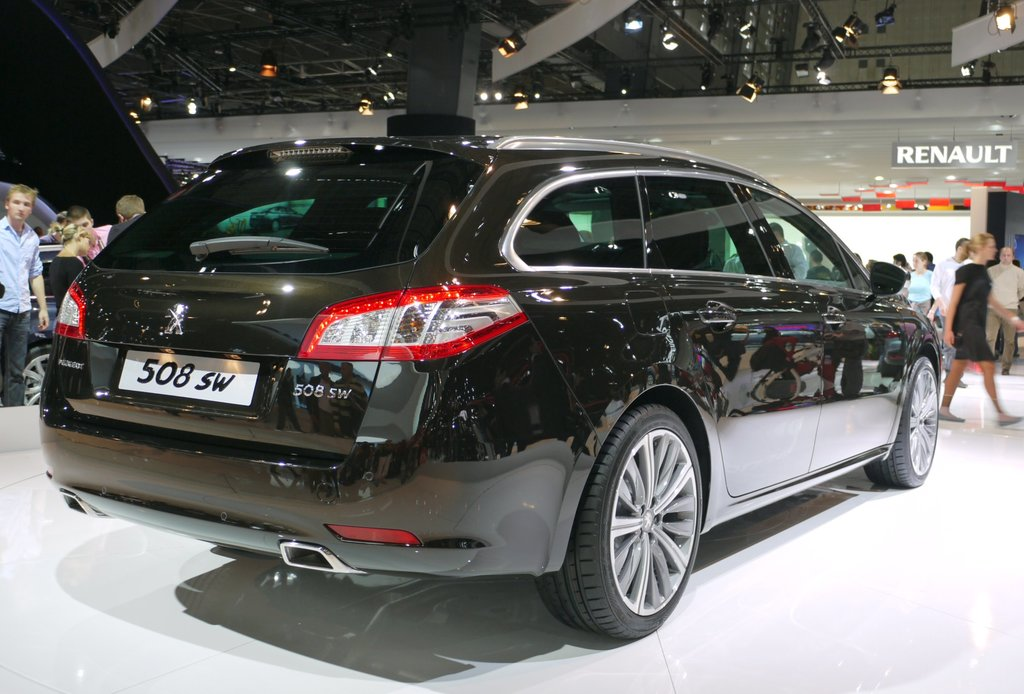Person: (0, 183, 1023, 426)
